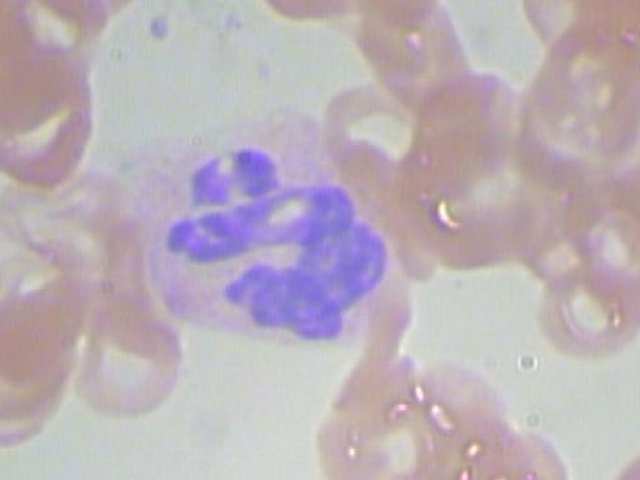Platelets: (138, 0, 187, 43)
RBC: (507, 22, 640, 178), (0, 43, 107, 195), (70, 301, 190, 425), (347, 0, 482, 108), (534, 250, 640, 360), (0, 303, 80, 421), (0, 345, 76, 453), (481, 420, 585, 480), (599, 405, 640, 480), (22, 0, 166, 19), (636, 82, 640, 191)
WBC: (114, 110, 396, 355)
